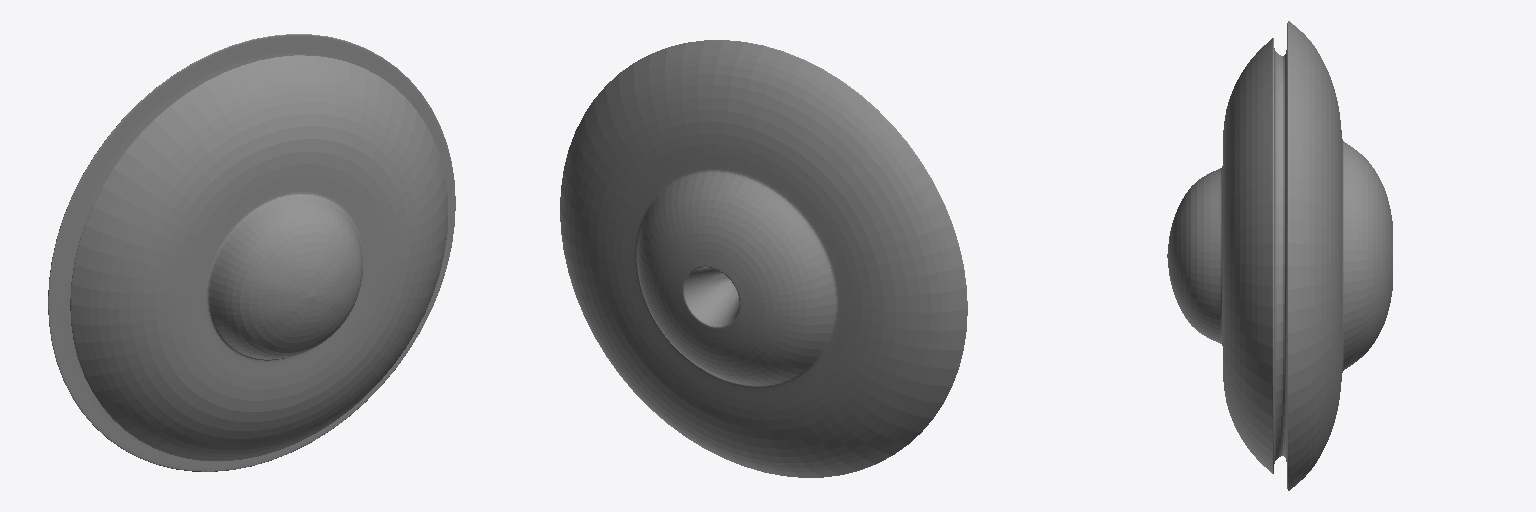
Rendered from 10476_Round_50s_Flying_Saucer_v1_L3.obj.
The picture shows the model from 3 angles: view 1: azimuth 30°, elevation 25°; view 2: azimuth 150°, elevation 25°; view 3: azimuth 270°, elevation 25°; orthographic projection.
Parts seen in each view (by area): view 1: 10476_Round_50s_Flying_Saucer_v1_SG; view 2: 10476_Round_50s_Flying_Saucer_v1_SG; view 3: 10476_Round_50s_Flying_Saucer_v1_SG.
Part boxes in pixels (left/top/right/bottom): 10476_Round_50s_Flying_Saucer_v1_SG: left=48, top=34, right=455, bottom=471; 10476_Round_50s_Flying_Saucer_v1_SG: left=560, top=40, right=967, bottom=477; 10476_Round_50s_Flying_Saucer_v1_SG: left=1167, top=21, right=1392, bottom=490.
Bounding box in the file's own units: 5053 × 5053 × 2419.